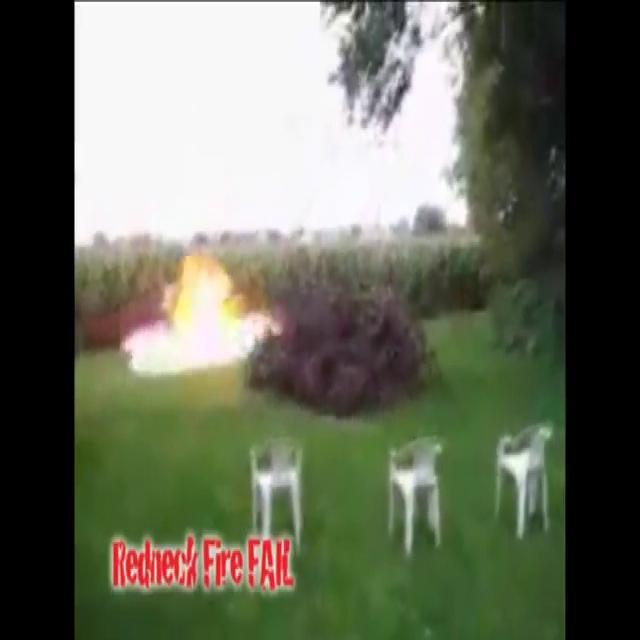Fire: (136, 253, 250, 376)
